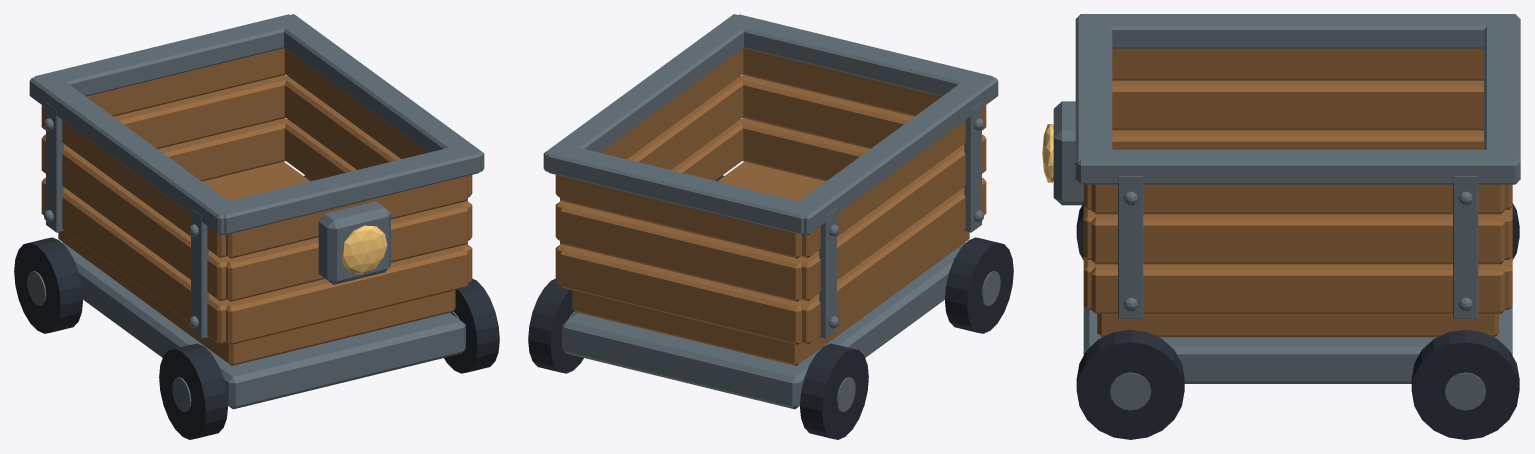
File: MineCartEmpty.fbx
3 renders of one model, left to right at view 1: azimuth 30°, elevation 25°; view 2: azimuth 150°, elevation 25°; view 3: azimuth 270°, elevation 25°, orthographic. The views are drawn at different scales.
Parts seen in each view (by area): view 1: CartChassis.001, EndPlank.006, CartBed.001, EndRim.002, EndRim.003, SteelRim.002, EndPlank.007, SteelRim.003, SidePlank.007, SidePlank.006, EndPlank.010, EndPlank.011 (+15 smaller); view 2: CartChassis.001, EndPlank.009, EndPlank.010, CartBed.001, EndRim.003, SteelRim.002, EndRim.002, SteelRim.003, SidePlank.007, SidePlank.006, EndPlank.007, EndPlank.011 (+13 smaller); view 3: SidePlank.007, SidePlank.010, SidePlank.009, SteelRim.003, SteelRim.002, CartChassis.001, SidePlank.008, SidePlank.011, CartBed.001, CircularWheel.007, CircularWheel.006, SidePlank.006 (+12 smaller).
Boxes of the visible parts, box(x1,y1,x2,y2) form: CartChassis.001: box(62, 242, 465, 409); EndPlank.006: box(226, 247, 468, 344); CartBed.001: box(58, 161, 455, 365); EndRim.002: box(223, 148, 480, 234); EndRim.003: box(34, 14, 301, 96); SteelRim.002: box(29, 77, 240, 235); EndPlank.007: box(226, 204, 468, 301); SteelRim.003: box(284, 14, 484, 171); SidePlank.007: box(41, 134, 231, 300); SidePlank.006: box(41, 178, 231, 344); EndPlank.010: box(45, 75, 290, 148); EndPlank.011: box(86, 48, 285, 116); CartChassis.001: box(562, 242, 965, 409); EndPlank.009: box(559, 246, 804, 344); EndPlank.010: box(559, 203, 803, 301); CartBed.001: box(572, 161, 969, 365); EndRim.003: box(547, 143, 815, 234); SteelRim.002: box(799, 73, 998, 235); EndRim.002: box(739, 14, 993, 96); SteelRim.003: box(543, 14, 754, 171); SidePlank.007: box(800, 134, 986, 300); SidePlank.006: box(800, 178, 986, 344); EndPlank.007: box(741, 75, 982, 148); EndPlank.011: box(559, 176, 801, 258); SidePlank.007: box(1112, 80, 1483, 130); SidePlank.010: box(1091, 214, 1504, 264); SidePlank.009: box(1091, 264, 1504, 313); SteelRim.003: box(1078, 149, 1518, 184); SteelRim.002: box(1078, 14, 1517, 48); CartChassis.001: box(1083, 306, 1512, 383); SidePlank.008: box(1112, 48, 1483, 80); SidePlank.011: box(1091, 184, 1504, 214); CartBed.001: box(1097, 314, 1498, 337); CircularWheel.007: box(1411, 329, 1519, 439); CircularWheel.006: box(1076, 329, 1184, 439); SidePlank.006: box(1112, 130, 1483, 149).
Size of the model in its own units: 173 by 130 by 209.
